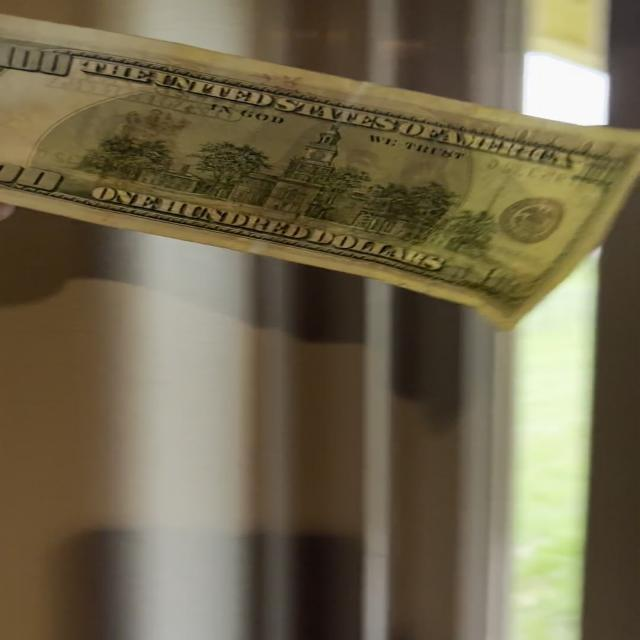hundred: (0, 16, 637, 327)
